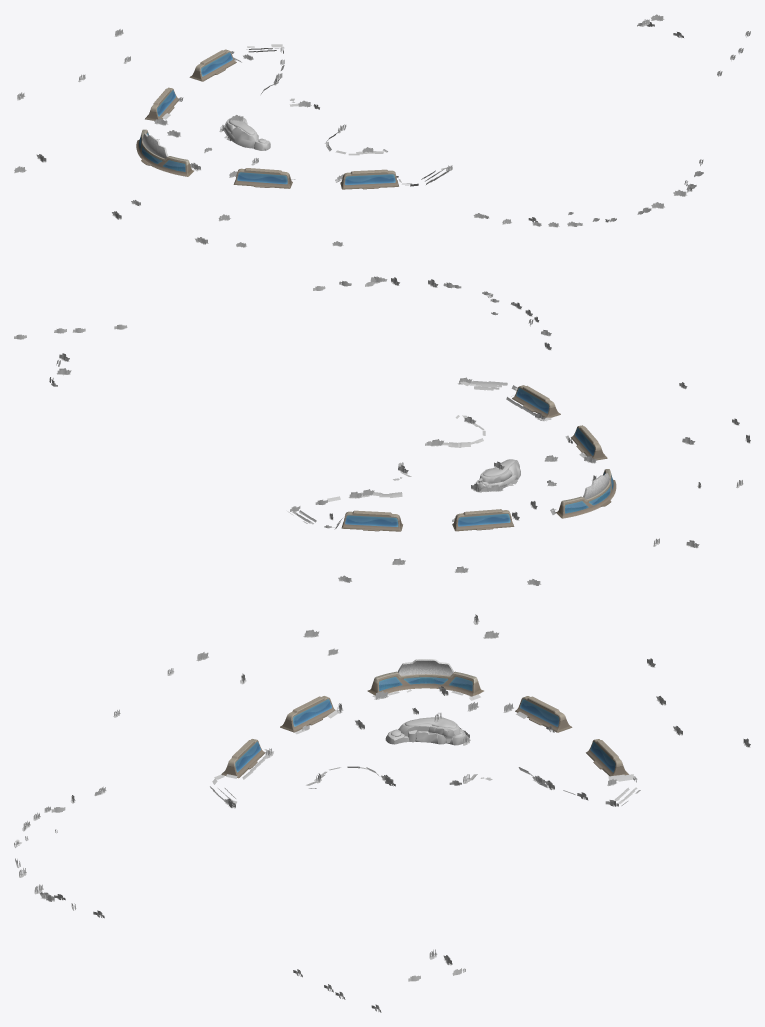
Rendered from pref_Area02_Grass_Small_lv3.fbx.
3 renders of one model, top to bottom at view 1: azimuth 30°, elevation 25°; view 2: azimuth 150°, elevation 25°; view 3: azimuth 270°, elevation 25°, orthographic. The views are drawn at different scales.
Visible parts, largest first — view 1: pref_sm_beach_techobstacle07a_lv3 (5), pref_sm_beach_techobstacle07a_lv3 (4), sm_beach_techobstacle08a_lv3, sm_beach_techobstacle09_lv3, pref_sm_beach_techobstacle07a_lv3 (2), pref_sm_beach_techobstacle07a_lv3 (3); view 2: pref_sm_beach_techobstacle07a_lv3 (3), pref_sm_beach_techobstacle07a_lv3 (2), sm_beach_techobstacle08a_lv3, pref_sm_beach_techobstacle07a_lv3 (5), sm_beach_techobstacle09_lv3, pref_sm_beach_techobstacle07a_lv3 (4); view 3: sm_beach_techobstacle08a_lv3, sm_beach_techobstacle09_lv3, pref_sm_beach_techobstacle07a_lv3 (4), pref_sm_beach_techobstacle07a_lv3 (3), pref_sm_beach_techobstacle07a_lv3 (5), pref_sm_beach_techobstacle07a_lv3 (2), sm_beach_techobstacle08b_lv3.
Boxes of the visible parts, x1,y1,x2,y2 form: pref_sm_beach_techobstacle07a_lv3 (5): [340, 169, 398, 189]; pref_sm_beach_techobstacle07a_lv3 (4): [233, 168, 292, 188]; sm_beach_techobstacle08a_lv3: [136, 129, 194, 176]; sm_beach_techobstacle09_lv3: [224, 117, 270, 150]; pref_sm_beach_techobstacle07a_lv3 (2): [189, 49, 236, 81]; pref_sm_beach_techobstacle07a_lv3 (3): [145, 87, 178, 120]; pref_sm_beach_techobstacle07a_lv3 (3): [452, 509, 514, 531]; pref_sm_beach_techobstacle07a_lv3 (2): [341, 510, 402, 531]; sm_beach_techobstacle08a_lv3: [555, 469, 616, 518]; pref_sm_beach_techobstacle07a_lv3 (5): [512, 385, 560, 417]; sm_beach_techobstacle09_lv3: [475, 459, 520, 488]; pref_sm_beach_techobstacle07a_lv3 (4): [571, 425, 607, 460]; sm_beach_techobstacle08a_lv3: [367, 671, 483, 696]; sm_beach_techobstacle09_lv3: [385, 717, 466, 745]; pref_sm_beach_techobstacle07a_lv3 (4): [280, 696, 335, 732]; pref_sm_beach_techobstacle07a_lv3 (3): [515, 696, 572, 732]; pref_sm_beach_techobstacle07a_lv3 (5): [221, 739, 265, 778]; pref_sm_beach_techobstacle07a_lv3 (2): [586, 739, 628, 776]; sm_beach_techobstacle08b_lv3: [397, 659, 453, 675].
Bounding box in the file's own units: 89.06 × 2.97 × 70.21.
